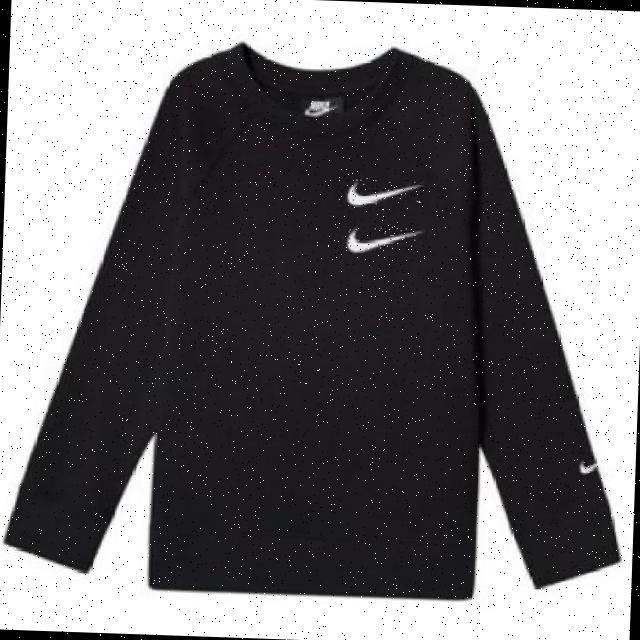Nike: (345, 177, 422, 205), (345, 225, 420, 252), (302, 96, 336, 116), (577, 458, 594, 473)
